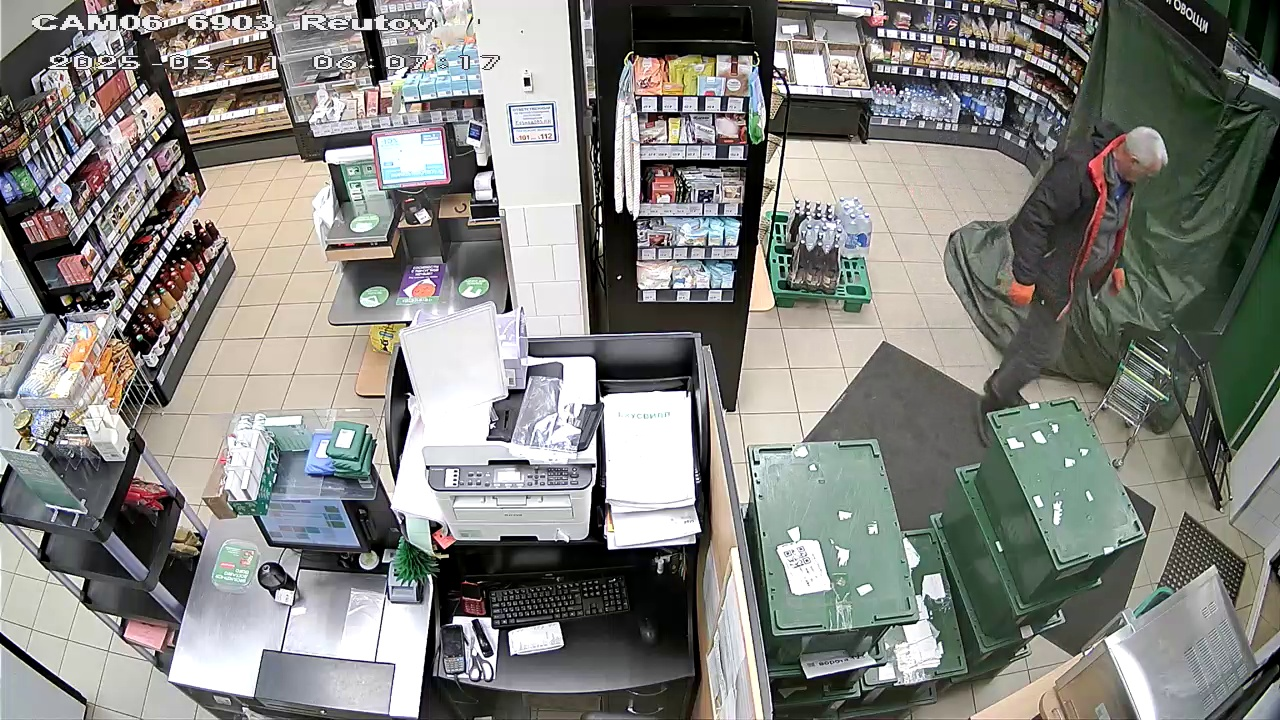Human: (969, 114, 1166, 466)
dome: (955, 4, 1262, 395)
